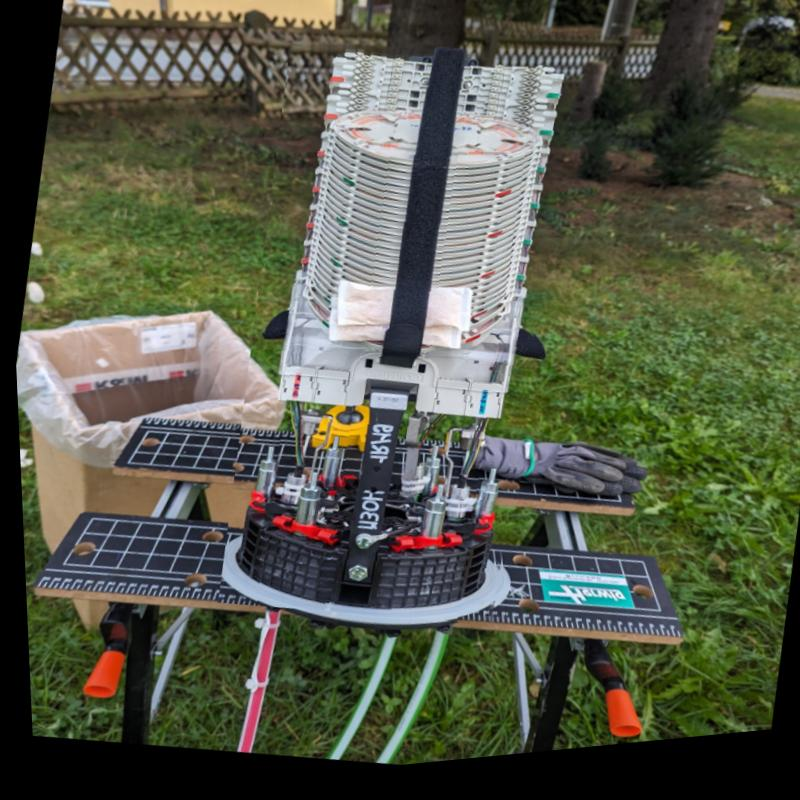NT-Muffen: (193, 24, 591, 656)
